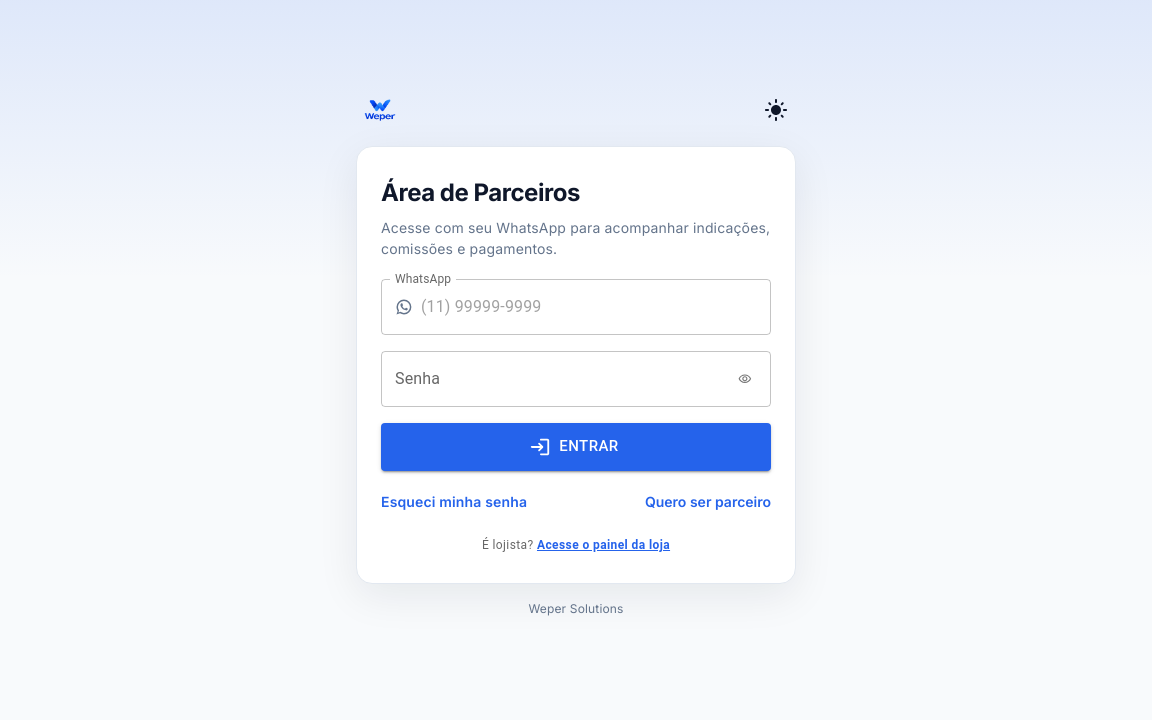
Test case: PartnerLoginPage › mostra o erro da API sem sair da tela
Type "11999998888" into the field labelled "WhatsApp" at (596, 306), box [421,278,771,334]
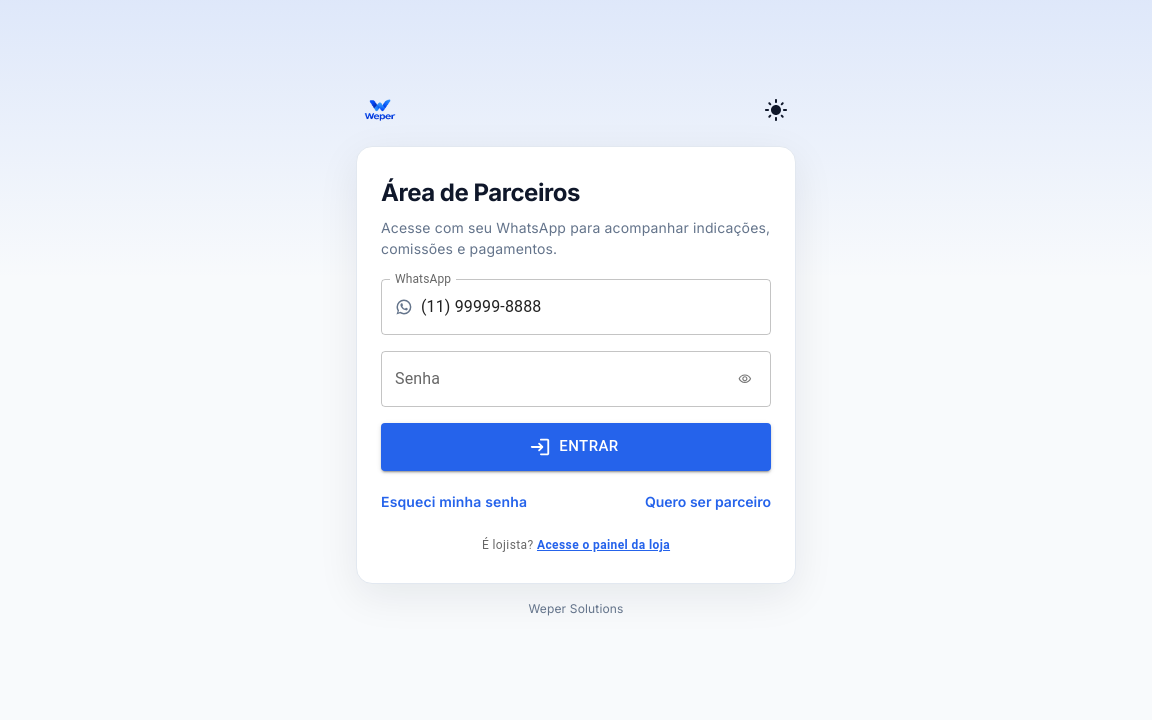
Type "errada123" into the password field labelled "Senha" at (553, 378), box [381,350,725,406]
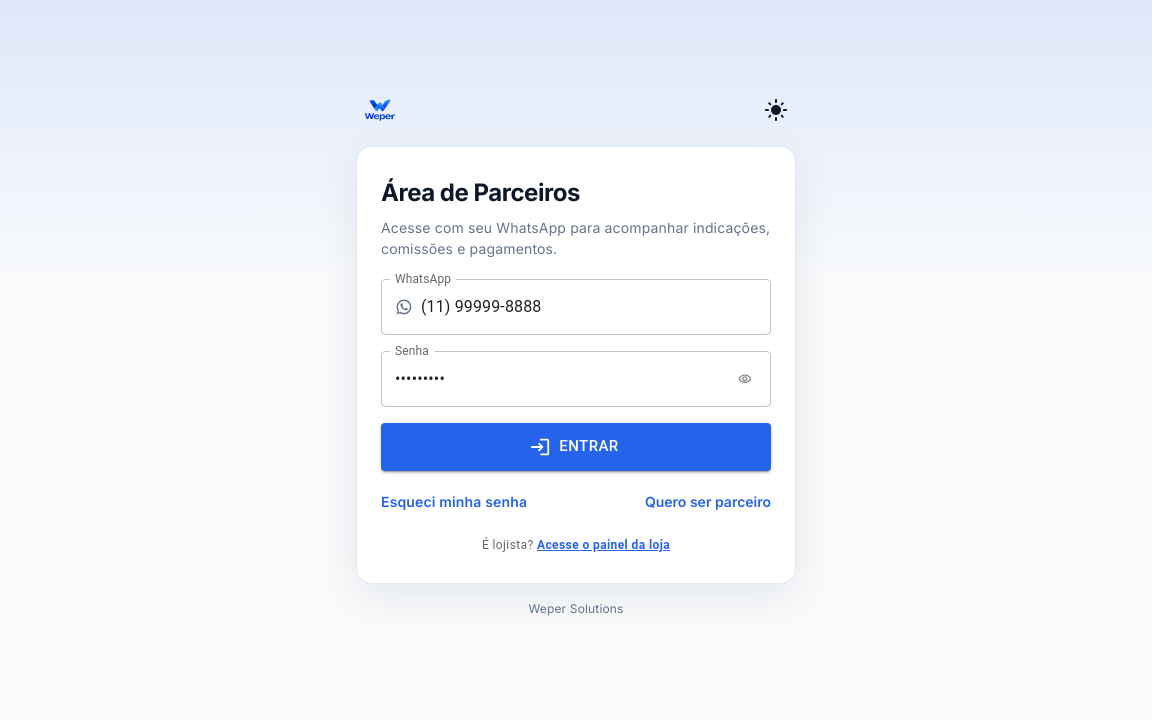
Click the button "Entrar" at (576, 446), box [381,422,771,470]
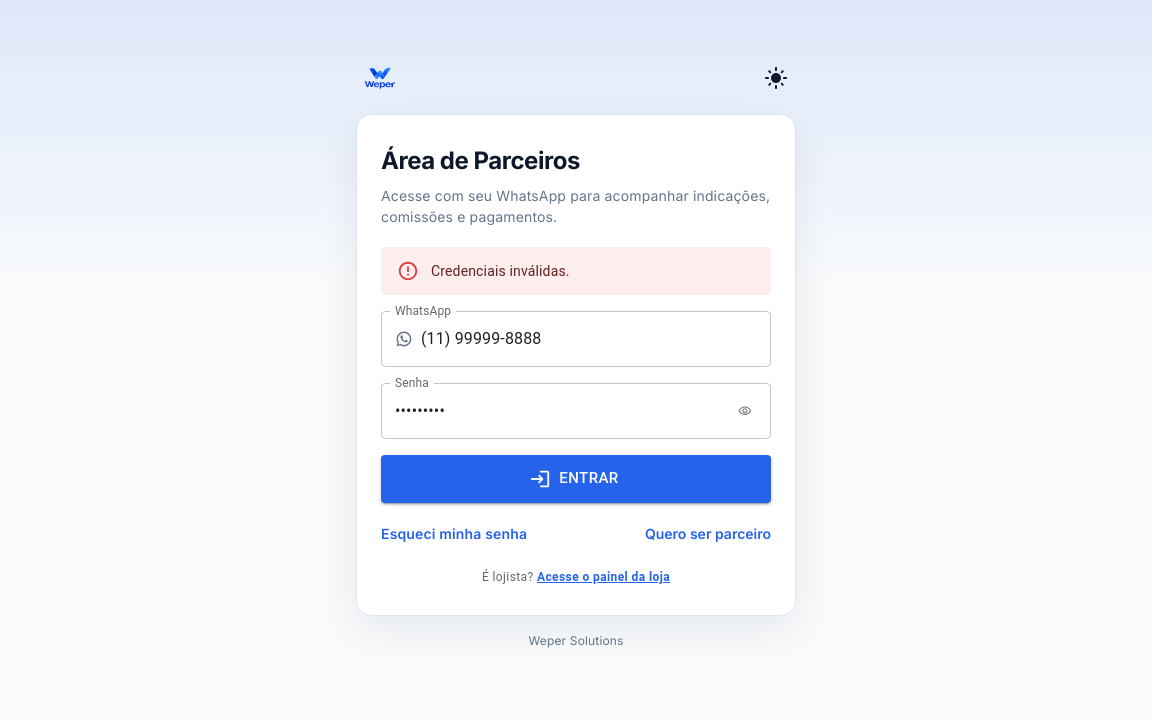
Check: the button "Entrar" is enabled, box [381,454,771,502]
Check: the message reads "Credenciais inválidas.", box [431,262,570,278]
